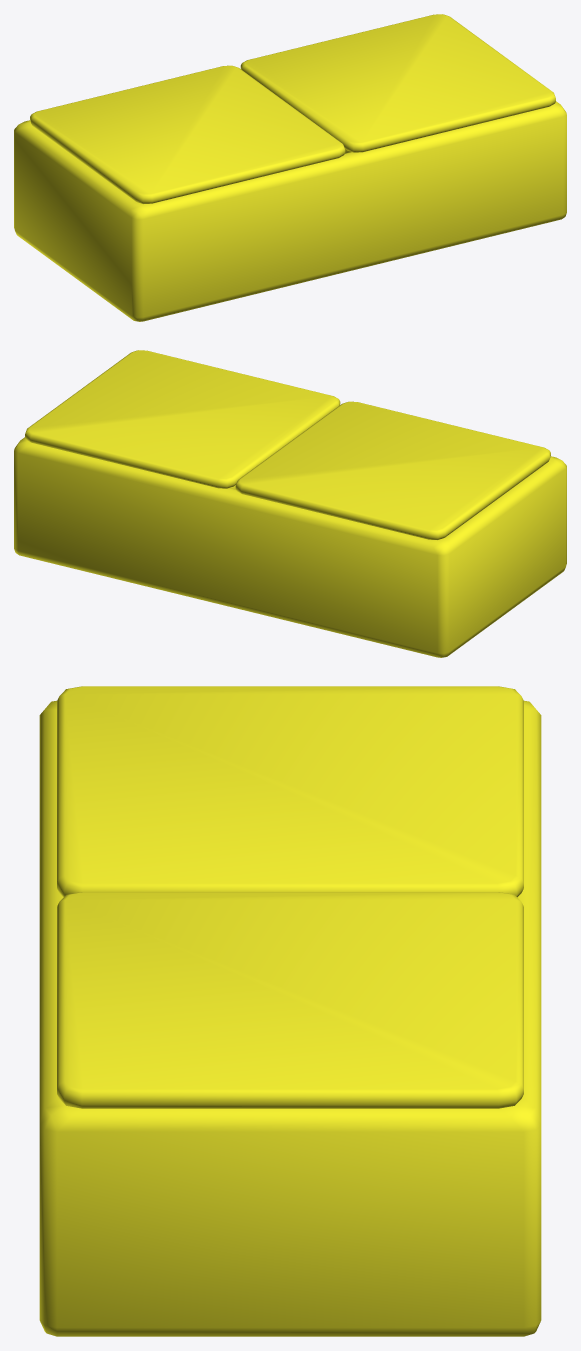
File: Block-I-Yellow.fbx
The picture shows the model from 3 angles, top to bottom: view 1: azimuth 30°, elevation 25°; view 2: azimuth 150°, elevation 25°; view 3: azimuth 270°, elevation 25°; orthographic projection. The views are drawn at different scales.
Visible parts, largest first — view 1: Block-I-Yellow, Cube.040; view 2: Block-I-Yellow, Cube.040; view 3: Cube.040, Block-I-Yellow.
Boxes of the visible parts, box(x1,y1,x2,y2) form: Block-I-Yellow: box(14, 101, 566, 321); Cube.040: box(30, 14, 555, 203); Block-I-Yellow: box(14, 437, 566, 657); Cube.040: box(25, 350, 550, 539); Cube.040: box(57, 686, 523, 1108); Block-I-Yellow: box(39, 700, 541, 1336).
Size of the model in its own units: 200 by 54.11 by 100.
